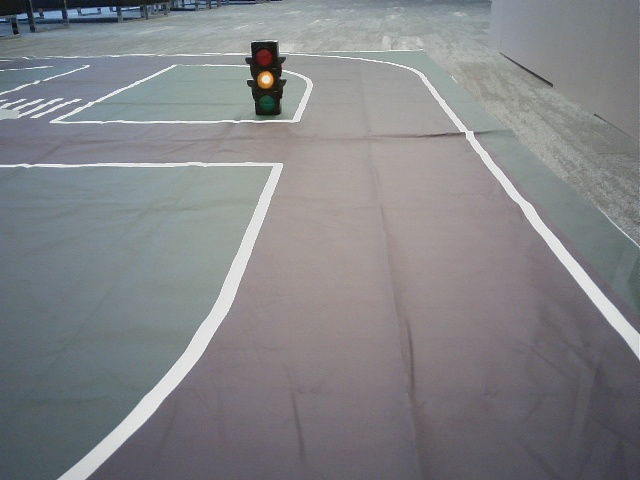yellow: (250, 46, 278, 113)
